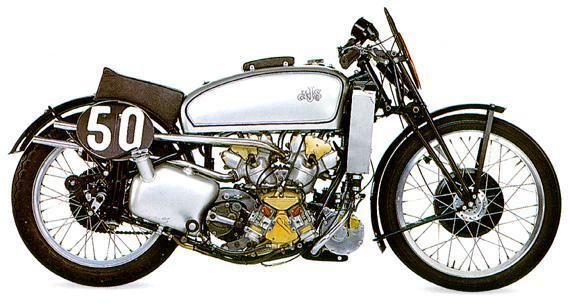Motorcycle: (4, 4, 570, 297)
